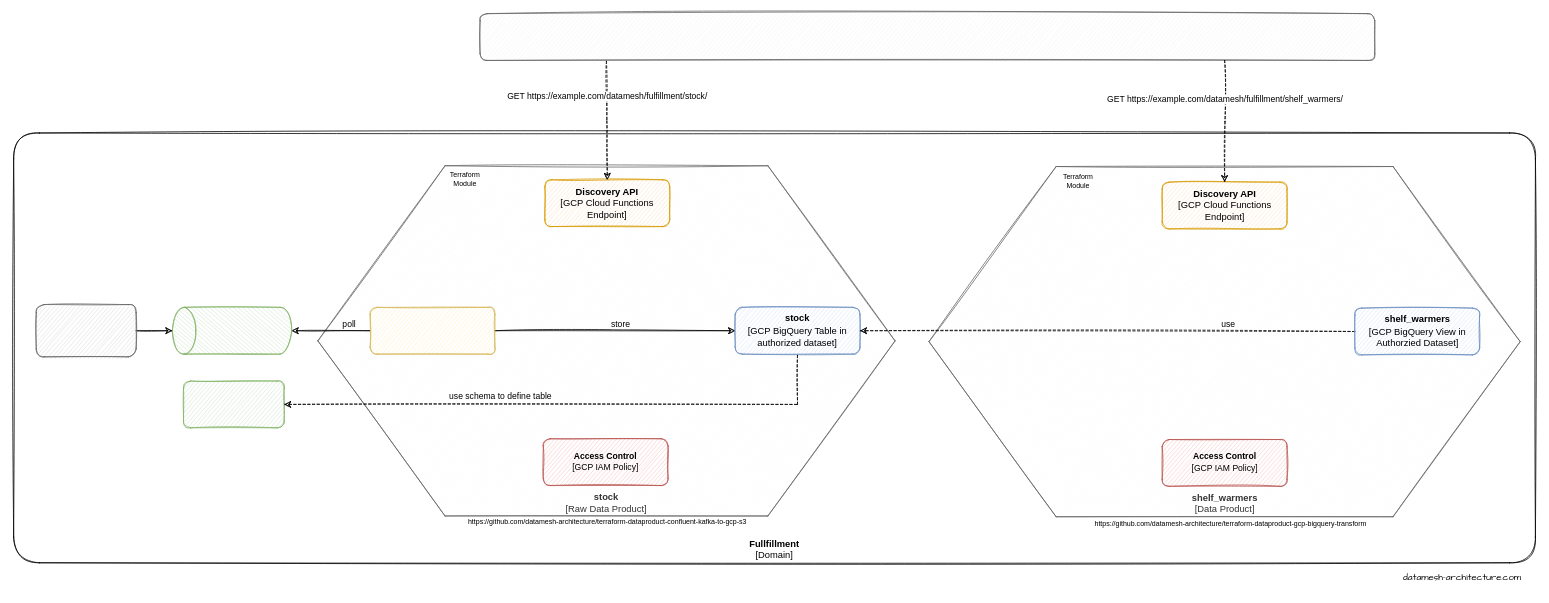
Some shapes in this 1549 by 603 pixel diagram are drawn without their labels. The shapes that lost their labels are listed below. From the top down, each one's centre as x and y in pixels, then its label:
At pixel 927 36: "Data Product Inventory [Custom Web App]".
At pixel 85 330: "Stock Service [Spring Boot]".
At pixel 232 330: "stock [Kafka Topic]".
At pixel 432 330: "Topic to BigQuery [Google BigQuery Sink Connector for Confluent]".
At pixel 233 404: "stock.bigquery.json [BigQuery Schema]".
